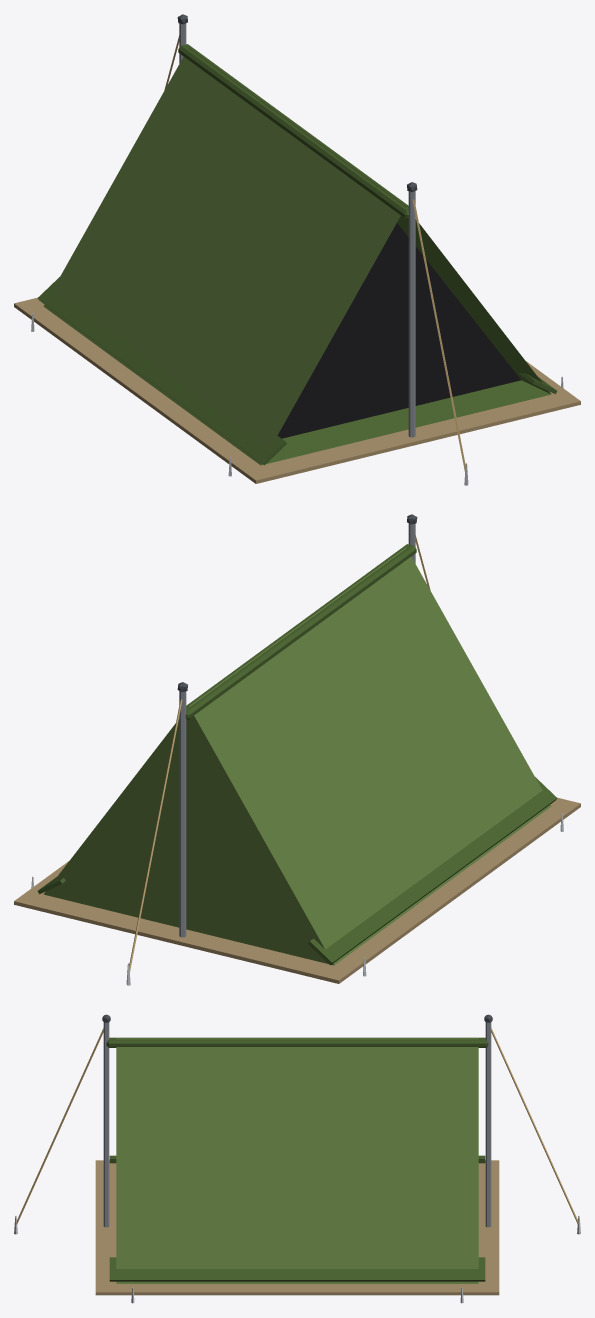
Rendered from SM_Tent_Green.glb.
3 views of the same model, one above another, from view 1: azimuth 30°, elevation 25°; view 2: azimuth 150°, elevation 25°; view 3: azimuth 270°, elevation 25° (orthographic). The views are drawn at different scales.
Visible parts, largest first — view 1: SM_Tent_Green; view 2: SM_Tent_Green; view 3: SM_Tent_Green.
Boxes of the visible parts, <box> form: SM_Tent_Green: <box>14,14,580,485</box>; SM_Tent_Green: <box>14,514,580,985</box>; SM_Tent_Green: <box>14,1014,580,1303</box>.
Size of the model in its own units: 1.96 by 1.48 by 3.44.
1 material, 1 textured.
